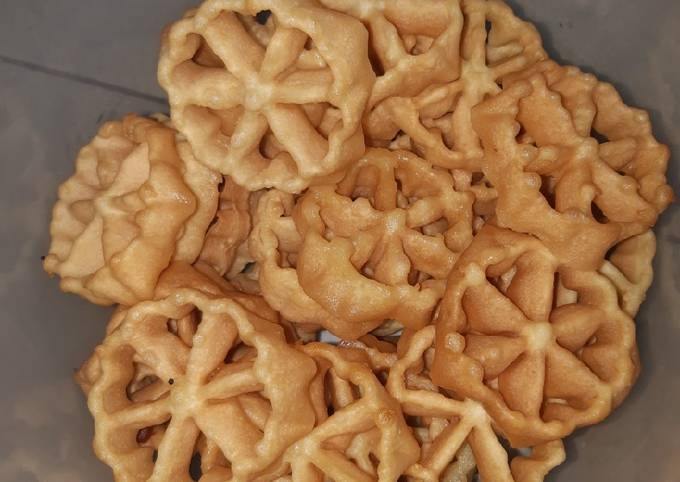kembang_goyang: (61, 291, 311, 482), (449, 63, 673, 267), (152, 0, 383, 197), (289, 148, 476, 326)
